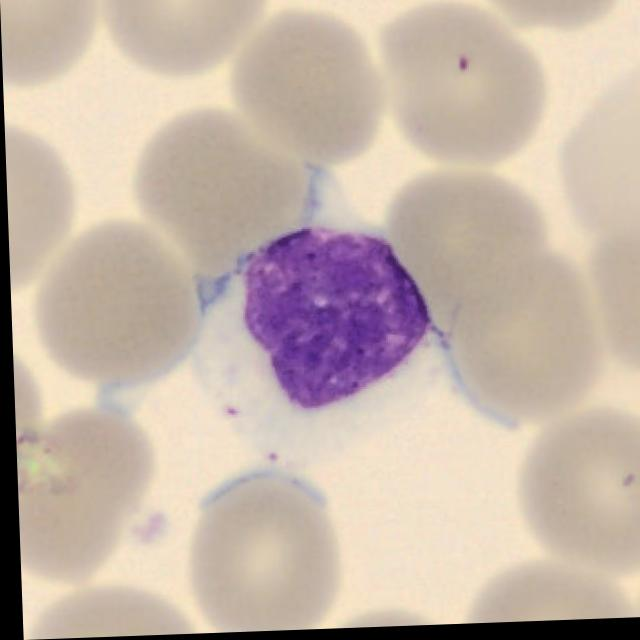Linfocito atipico: (94, 171, 516, 515)
